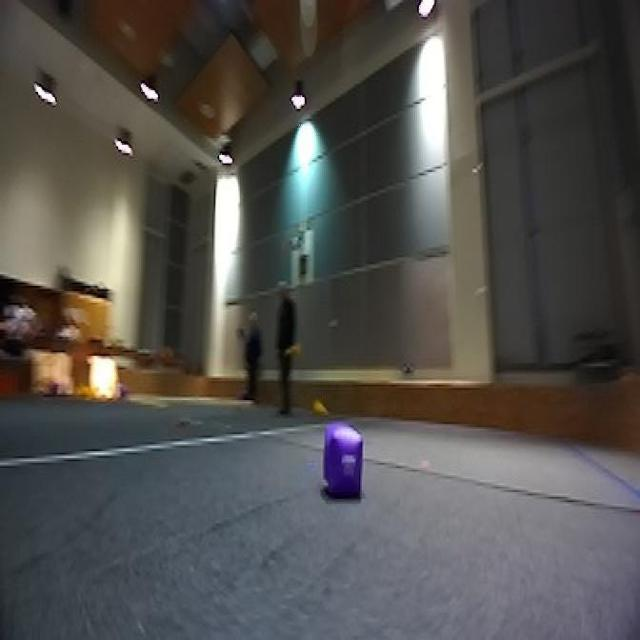frc_cone: (72, 381, 96, 400), (284, 340, 301, 361), (312, 394, 328, 416)
frc_cube: (322, 424, 366, 499), (117, 383, 132, 402), (46, 378, 60, 395)
